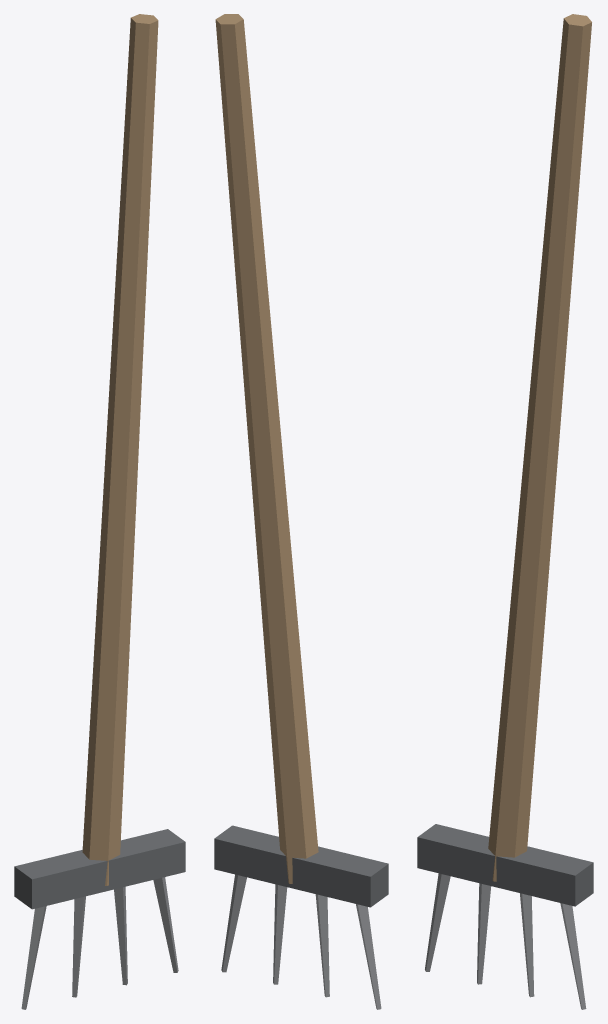
Rendered from pitchfork.glb.
3 views of the same model, side by side, from view 1: azimuth 30°, elevation 25°; view 2: azimuth 150°, elevation 25°; view 3: azimuth 330°, elevation 25° (orthographic). The views are drawn at different scales.
Visible parts, largest first — view 1: pitchfork; view 2: pitchfork; view 3: pitchfork.
Part boxes in pixels (bbox=[...]): pitchfork: bbox=[14, 14, 185, 1009]; pitchfork: bbox=[214, 14, 388, 1009]; pitchfork: bbox=[417, 14, 593, 1009].
Size of the model in its own units: 0.2456 by 1.42 by 0.0795.
